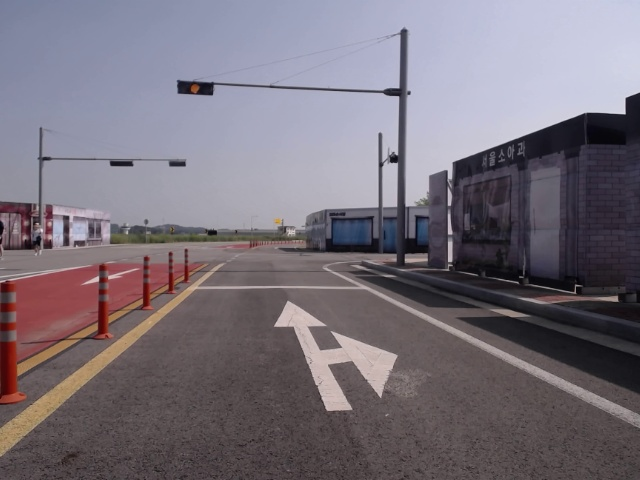orange_3: (178, 82, 212, 96)
